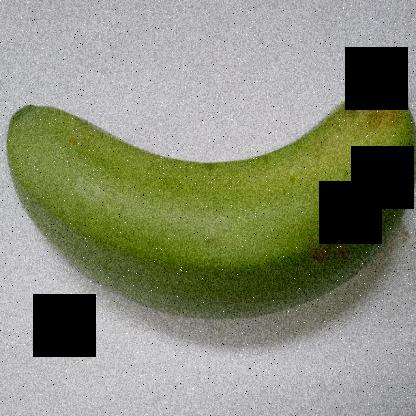freshunripe: (0, 53, 415, 340)
